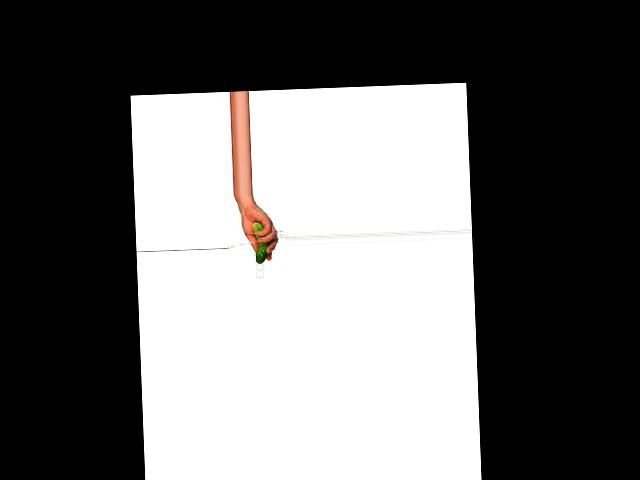cucumber: (252, 221, 269, 263)
